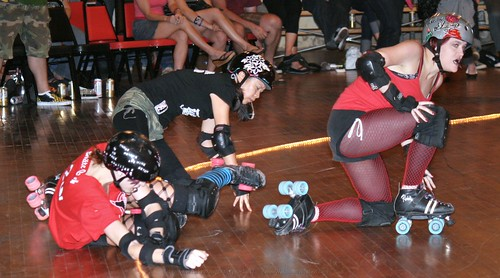helmet: (105, 133, 165, 174), (414, 7, 478, 38), (223, 51, 277, 77)
